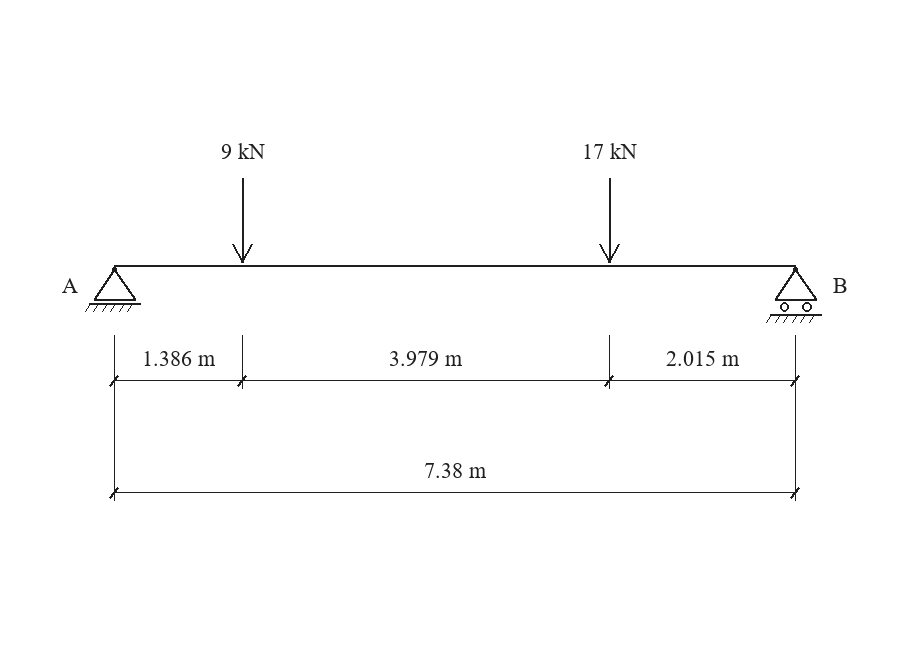pin_support: (85, 267, 141, 312)
point_load: (232, 178, 253, 263), (599, 178, 620, 263)
roller_support: (766, 267, 822, 323)
